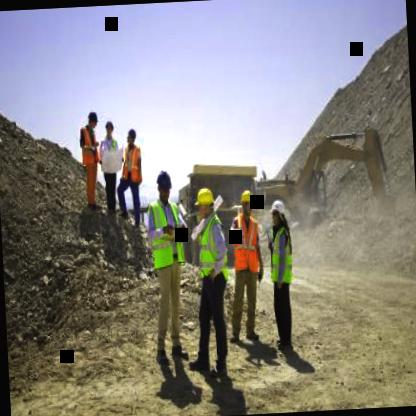helmet: (193, 182, 218, 222), (154, 166, 178, 205), (236, 185, 258, 218), (268, 197, 289, 226), (126, 127, 140, 151), (86, 109, 100, 133)
